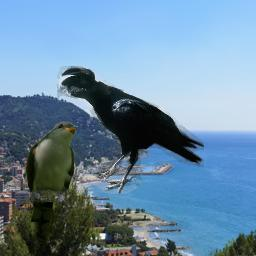Crow: (57, 66, 204, 194)
Cuckoo: (25, 121, 78, 244)
